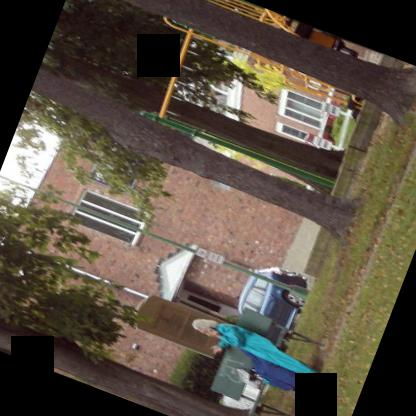handbag: (236, 367, 263, 389)
